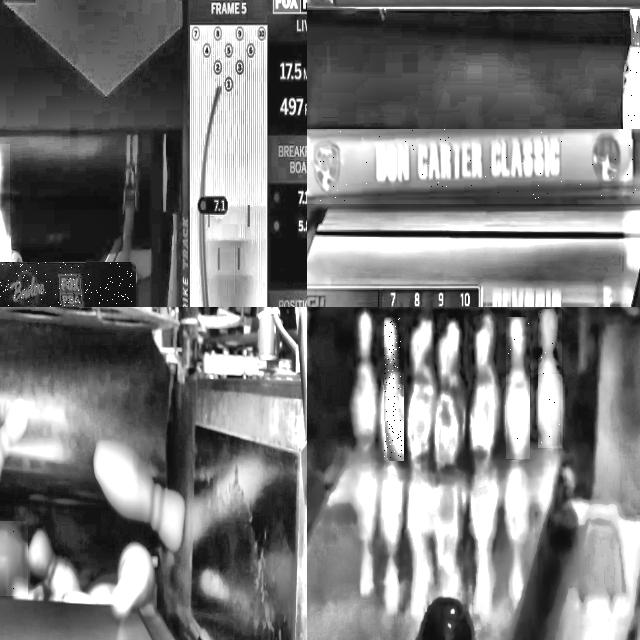bowling-ball: (421, 598, 473, 640), (0, 521, 27, 596)
bowling-pins: (407, 316, 436, 464), (352, 309, 378, 451), (507, 318, 530, 457), (538, 310, 561, 446), (384, 317, 402, 460), (623, 9, 640, 133), (0, 147, 8, 263)
sweep board: (307, 130, 640, 202), (0, 262, 133, 307)
